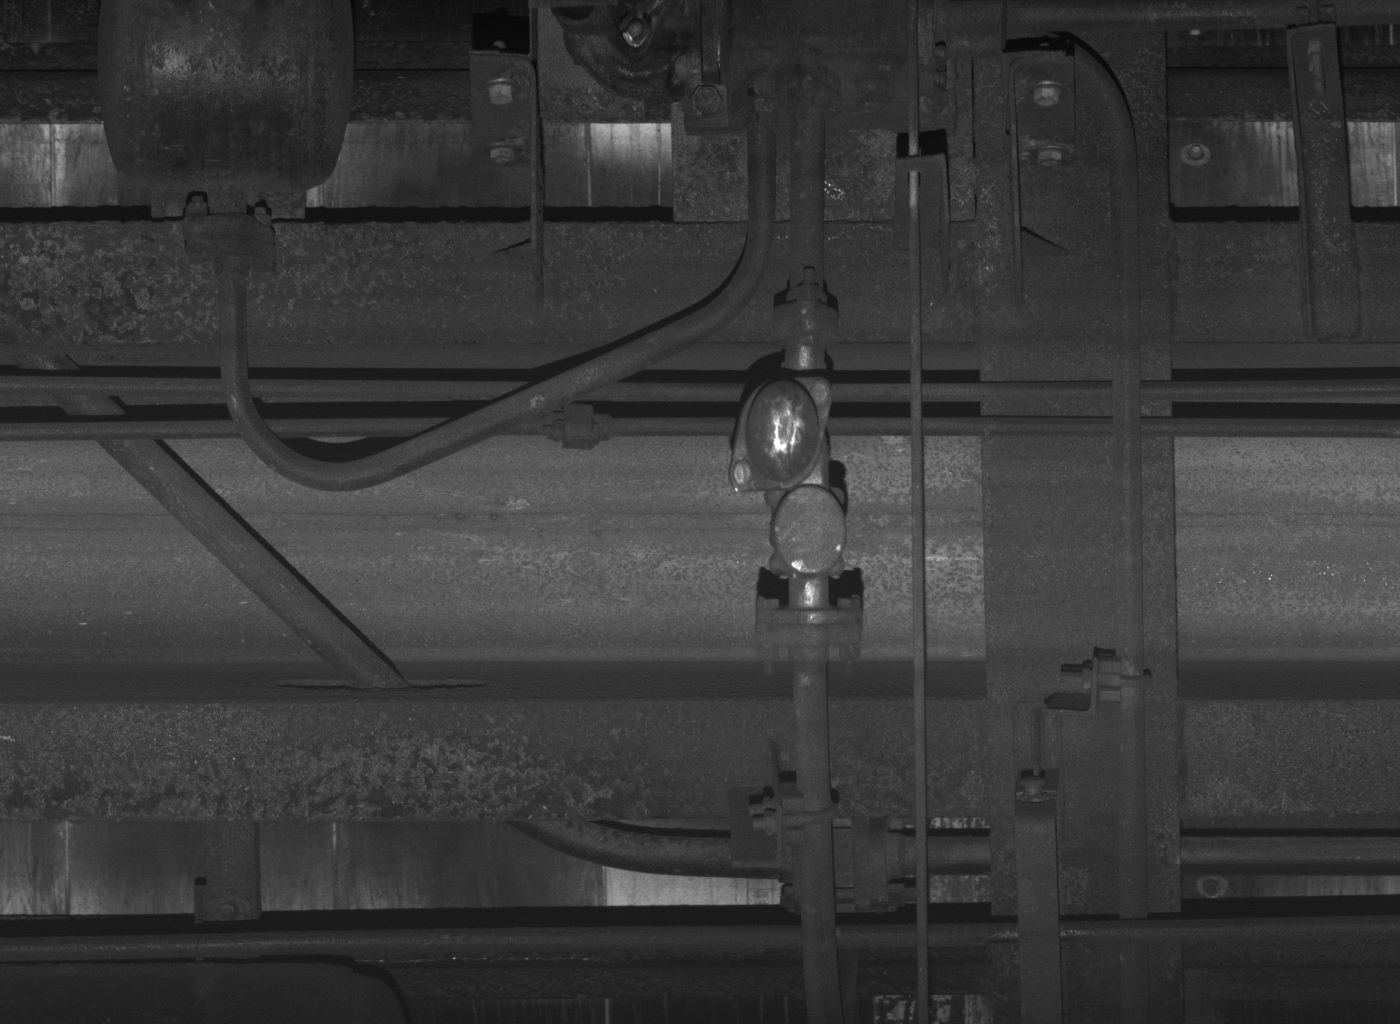normal: (766, 480, 848, 578)
